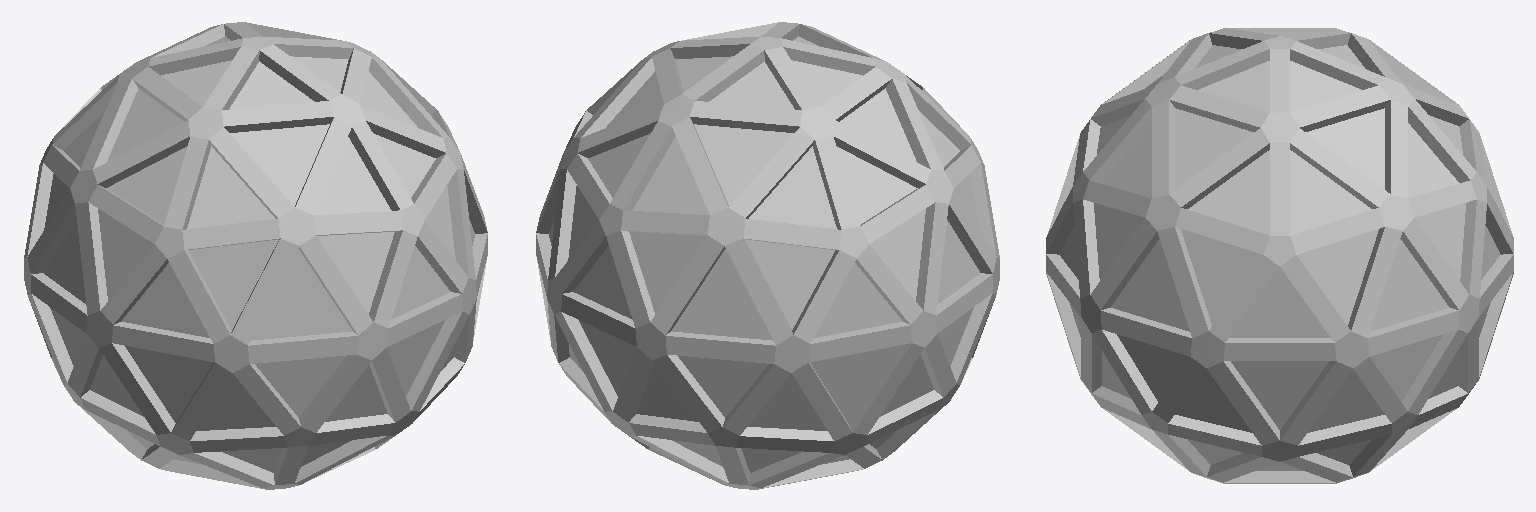
The model's file is ball.obj.
3 renders of one model, left to right at view 1: azimuth 30°, elevation 25°; view 2: azimuth 150°, elevation 25°; view 3: azimuth 270°, elevation 25°, orthographic.
Visible parts, largest first — view 1: Icosphere; view 2: Icosphere; view 3: Icosphere.
Boxes of the visible parts, x1=… form: Icosphere: x1=24, y1=22, x2=487, y2=489; Icosphere: x1=536, y1=22, x2=999, y2=489; Icosphere: x1=1046, y1=28, x2=1513, y2=483.
Size of the model in its own units: 1.89 by 1.95 by 1.94.